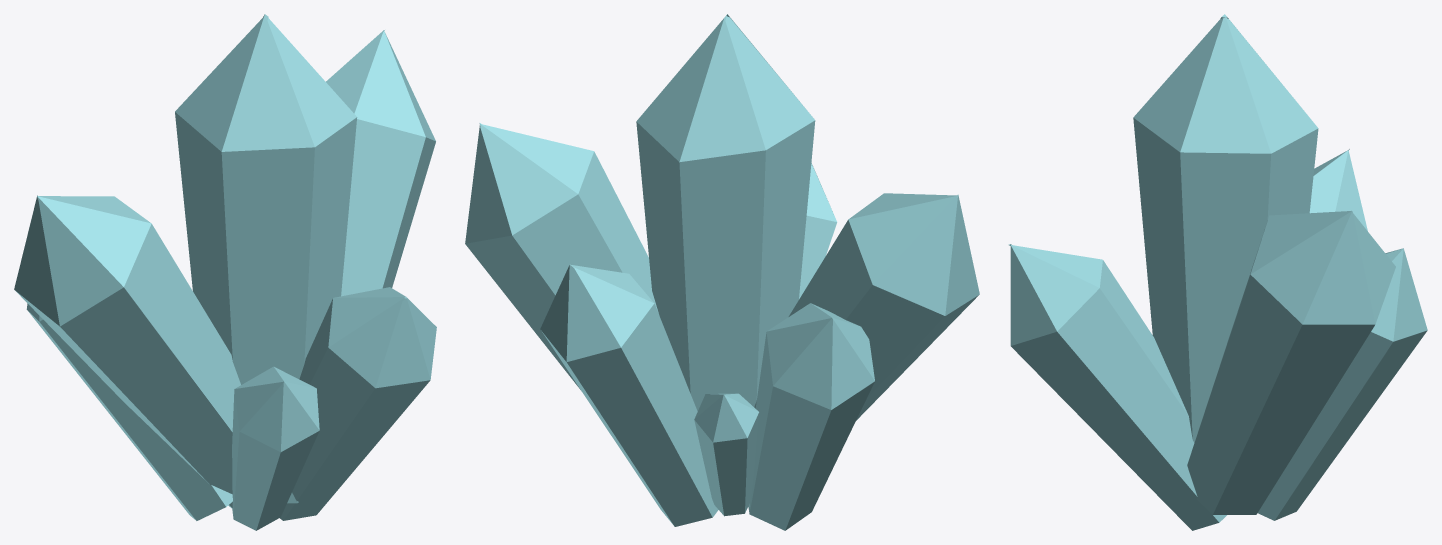
File: purified_crystal.fbx
3 renders of one model, left to right at view 1: azimuth 30°, elevation 25°; view 2: azimuth 150°, elevation 25°; view 3: azimuth 270°, elevation 25°, orthographic.
Visible parts, largest first — view 1: Crystals; view 2: Crystals; view 3: Crystals.
Boxes of the visible parts, left/top/right/bottom form: Crystals: left=14, top=14, right=436, bottom=530; Crystals: left=465, top=14, right=979, bottom=530; Crystals: left=1008, top=14, right=1427, bottom=530.
Size of the model in its own units: 80.95 by 86.83 by 66.08.
